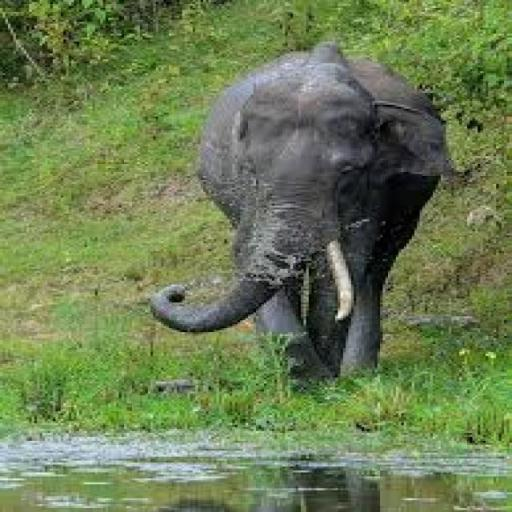Elephant: (148, 39, 470, 394)
